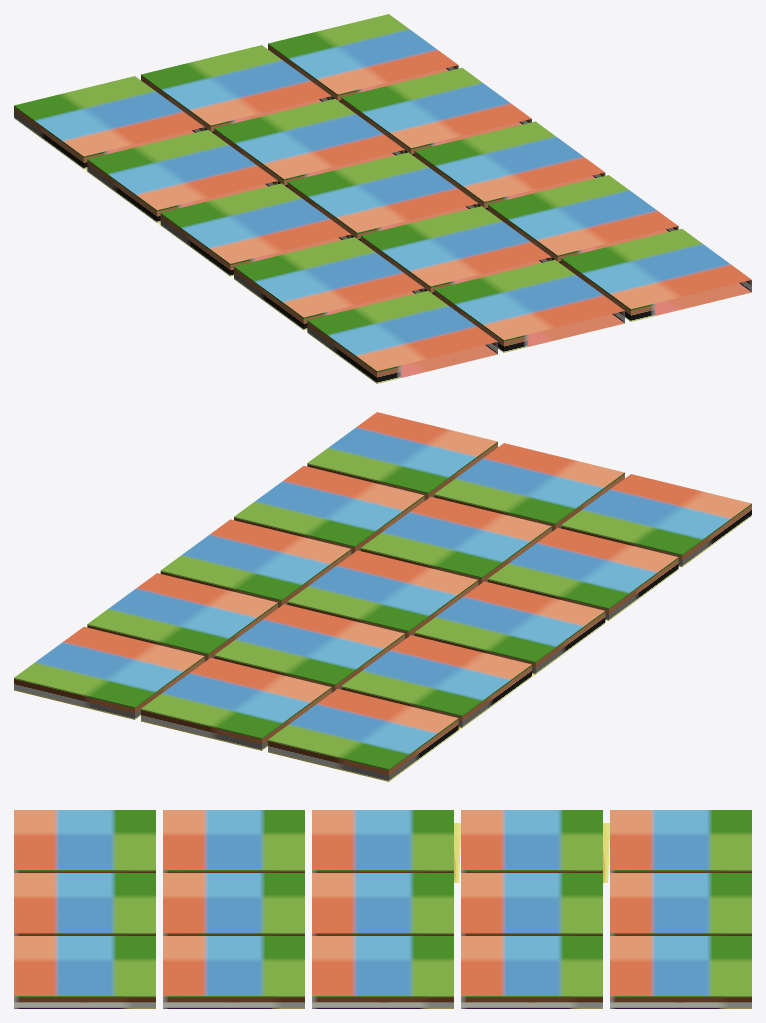
Rendered from Floor.fbx.
The picture shows the model from 3 angles, top to bottom: view 1: azimuth 30°, elevation 25°; view 2: azimuth 150°, elevation 25°; view 3: azimuth 270°, elevation 25°; orthographic projection.
Parts seen in each view (by area): view 1: Cube.8185; view 2: Cube.8185; view 3: Cube.8185.
Part boxes in pixels (left/top/right/bottom): Cube.8185: left=14, top=14, right=751, bottom=383; Cube.8185: left=14, top=412, right=751, bottom=781; Cube.8185: left=14, top=810, right=751, bottom=1008.
Bounding box in the file's own units: 367 × 11.83 × 615.
Materials: 1 (1 with a texture image).
